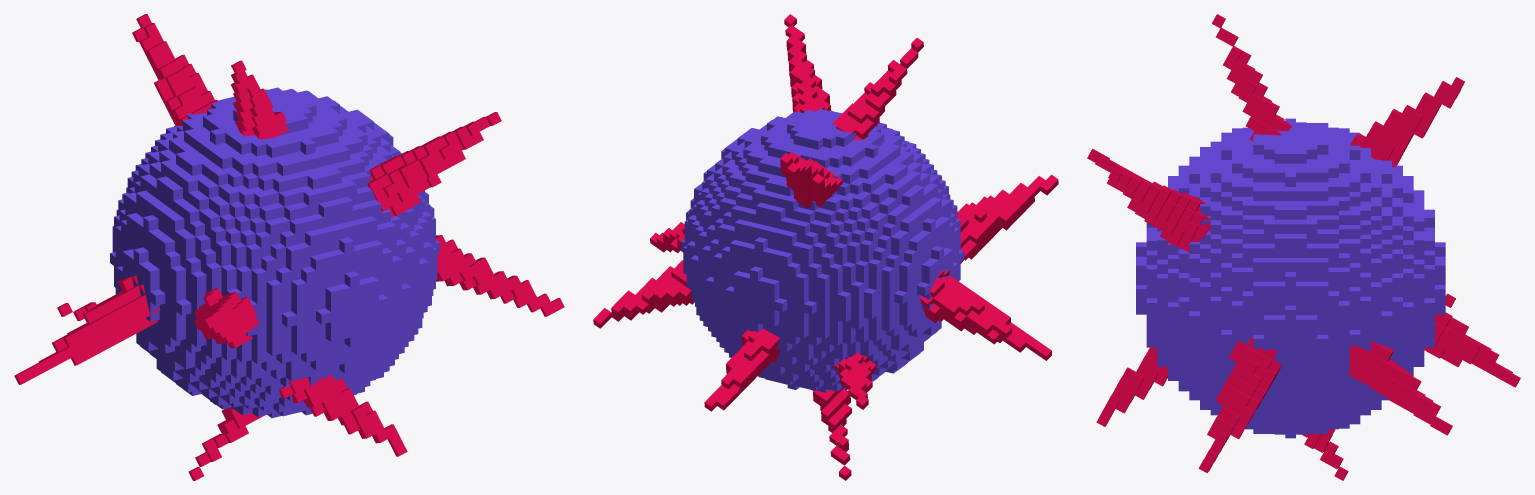
The model's file is ORB.fbx.
3 renders of one model, left to right at view 1: azimuth 30°, elevation 25°; view 2: azimuth 150°, elevation 25°; view 3: azimuth 270°, elevation 25°, orthographic. The views are drawn at different scales.
Visible parts, largest first — view 1: Sphere.001, Cone.001; view 2: Sphere.001, Cone.001; view 3: Sphere.001, Cone.001.
Part boxes in pixels (x1,y1,x2,y2): Sphere.001: (110, 87, 439, 418); Cone.001: (14, 14, 564, 480); Sphere.001: (681, 109, 964, 392); Cone.001: (593, 14, 1058, 480); Sphere.001: (1136, 118, 1445, 438); Cone.001: (1087, 14, 1520, 480).
Size of the model in its own units: 405 by 361 by 310.
